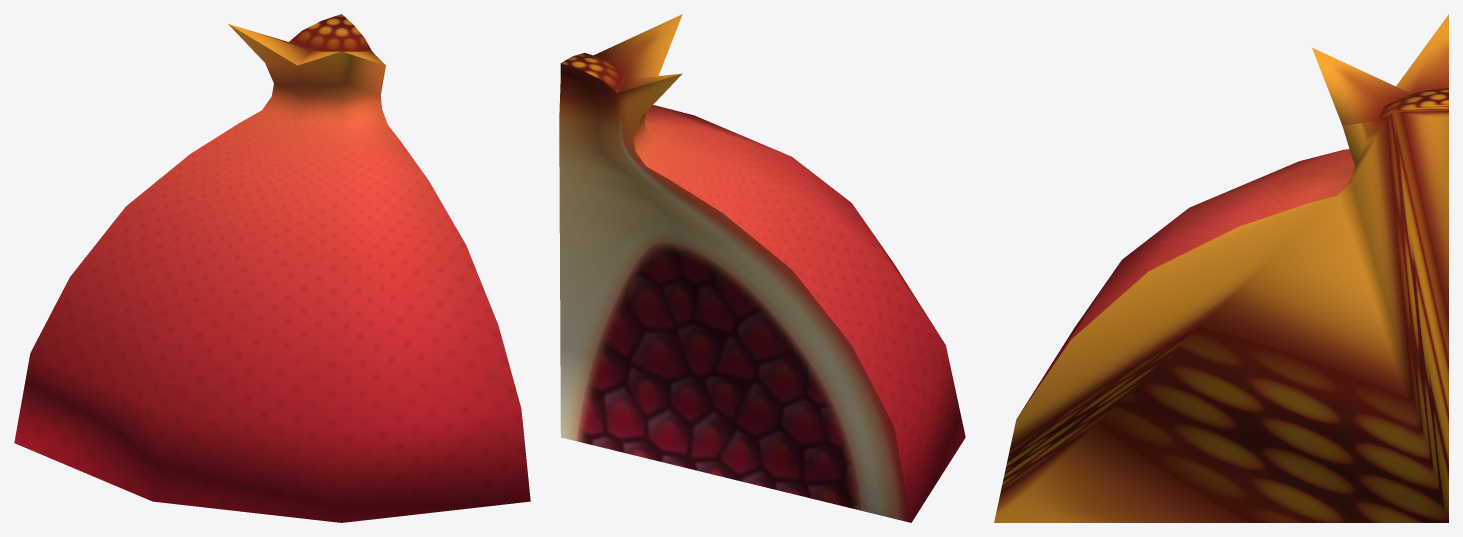
File: Pome_Top4.fbx
3 renders of one model, left to right at view 1: azimuth 30°, elevation 25°; view 2: azimuth 150°, elevation 25°; view 3: azimuth 270°, elevation 25°, orthographic. The views are drawn at different scales.
Parts seen in each view (by area): view 1: Pomegranate_Top4; view 2: Pomegranate_Top4; view 3: Pomegranate_Top4.
Part boxes in pixels (x1,y1,x2,y2): Pomegranate_Top4: (14, 14, 530, 522); Pomegranate_Top4: (559, 14, 965, 522); Pomegranate_Top4: (994, 14, 1448, 522).
Size of the model in its own units: 0.753 by 0.8041 by 0.75.
